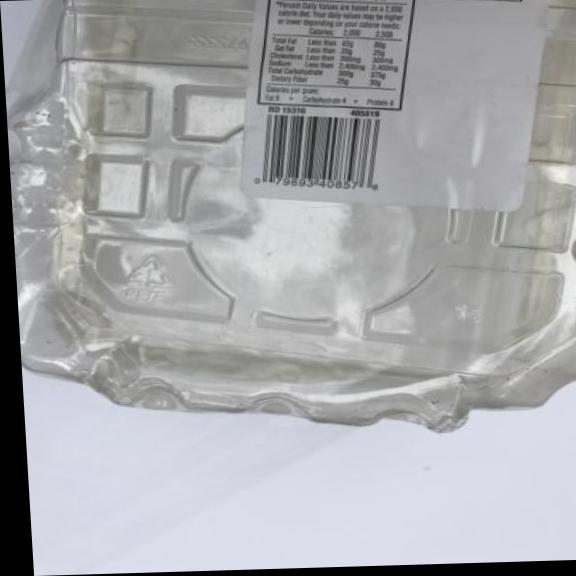Plastik: (1, 0, 576, 448)
